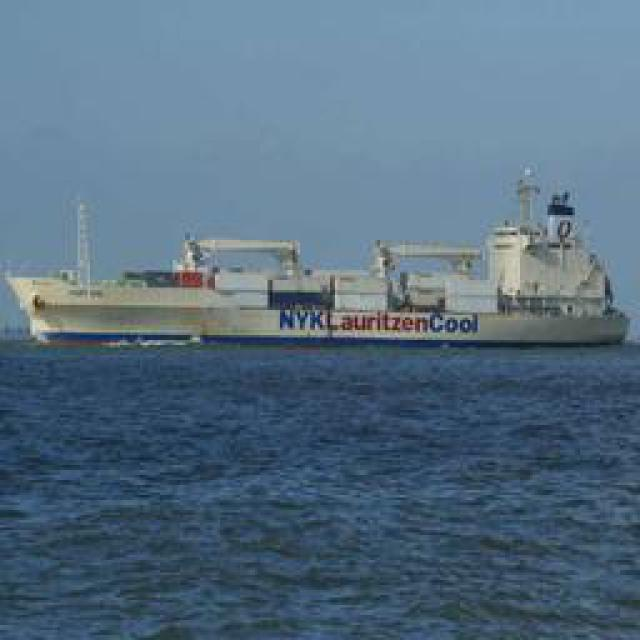Ship: (21, 179, 629, 354)
